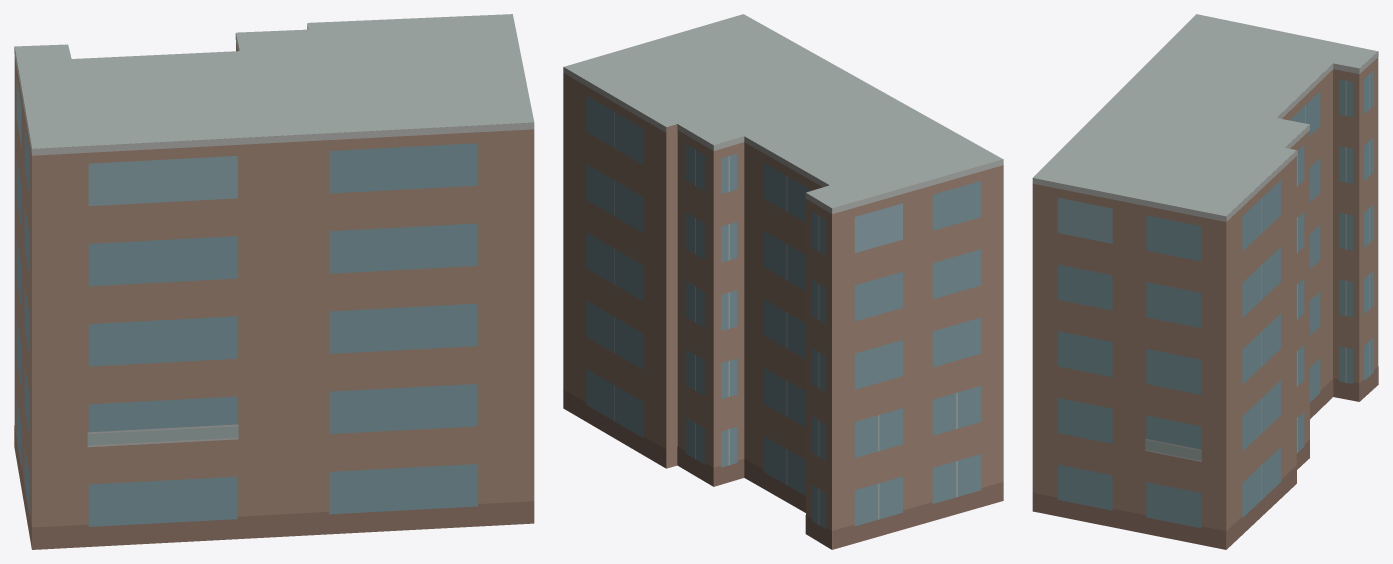
File: survey-upis-32702275.glb
3 views of the same model, side by side, from view 1: azimuth 30°, elevation 25°; view 2: azimuth 150°, elevation 25°; view 3: azimuth 270°, elevation 25° (orthographic). The views are drawn at different scales.
Parts seen in each view (by area): view 1: survey-upis-32702275.tmp; view 2: survey-upis-32702275.tmp; view 3: survey-upis-32702275.tmp.
Part boxes in pixels (x1,y1,x2,y2): survey-upis-32702275.tmp: (14, 14, 534, 549); survey-upis-32702275.tmp: (563, 14, 1003, 549); survey-upis-32702275.tmp: (1032, 14, 1378, 549).
Size of the model in its own units: 18.62 by 14.3 by 13.45.
